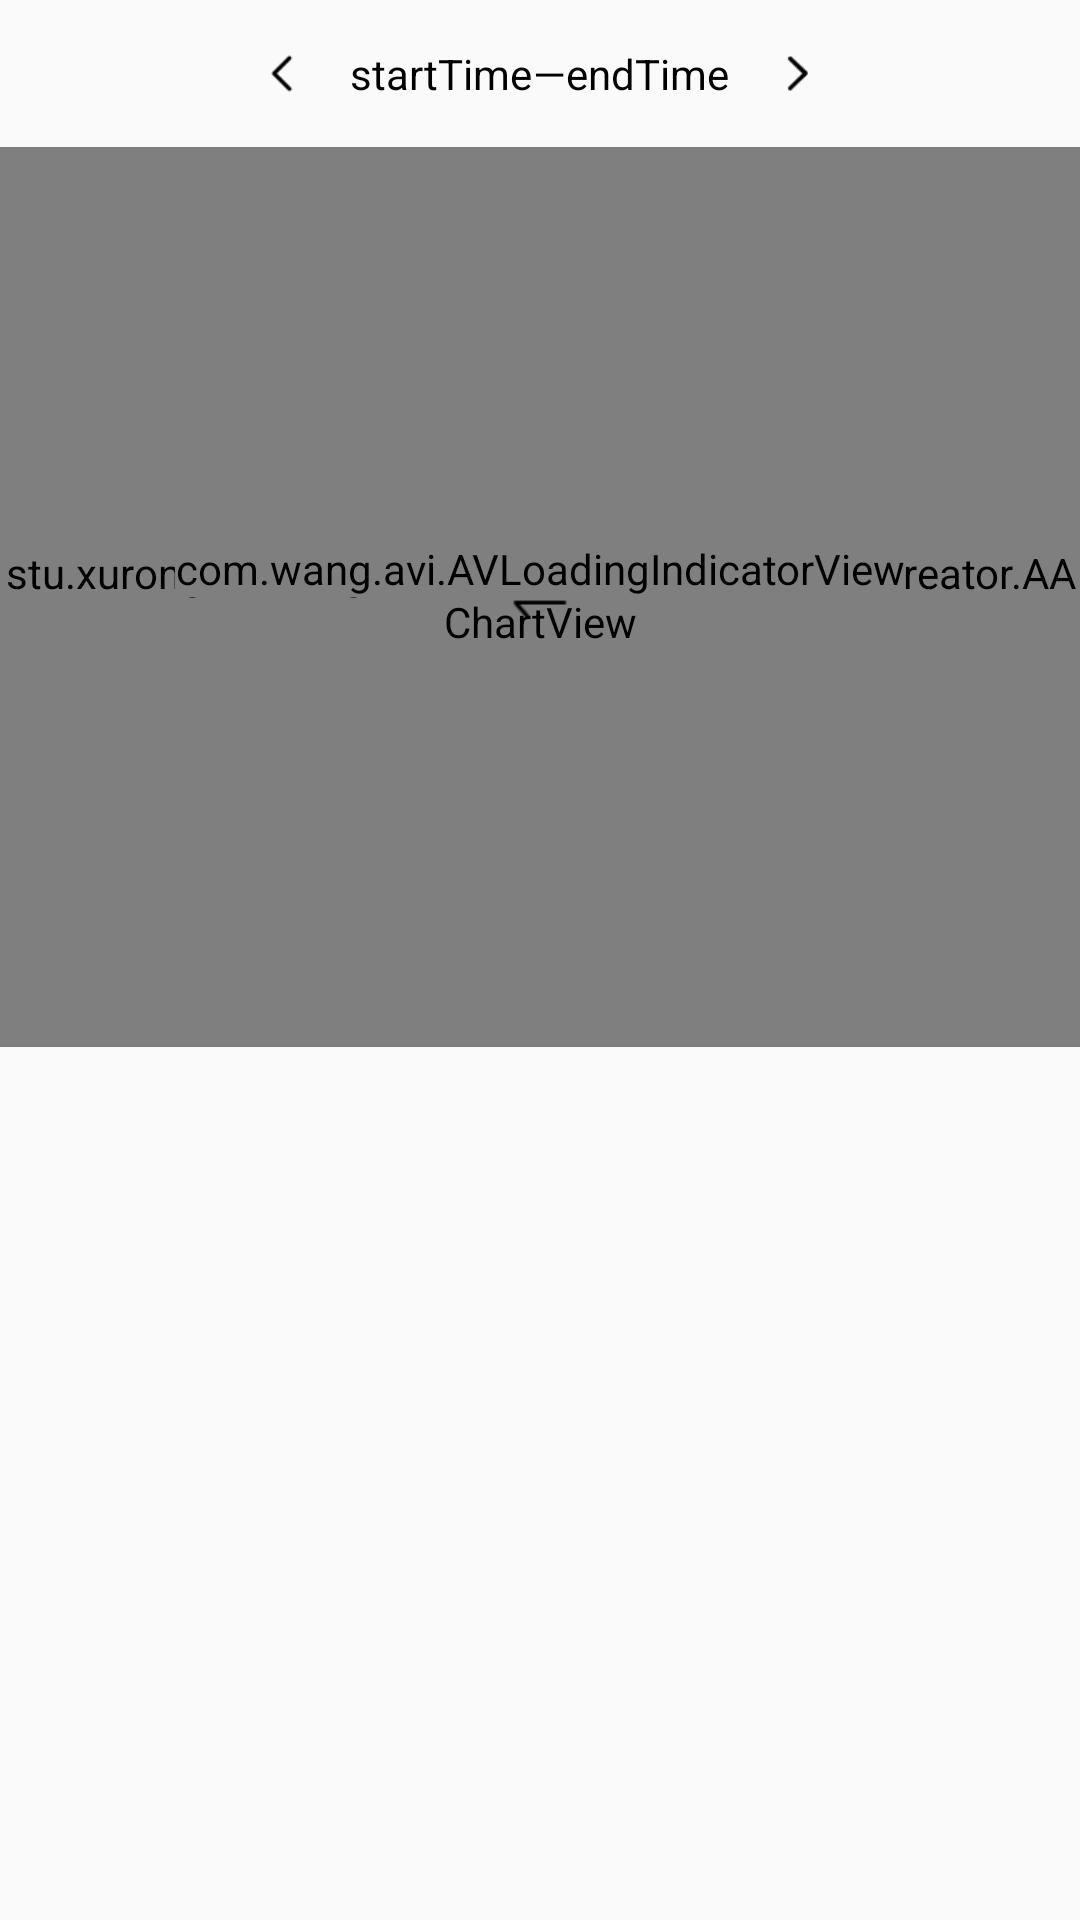

Named icons in this screenshot (1080*1920) and their centers, point (x, y):
left: point (282, 73)
right: point (798, 73)
